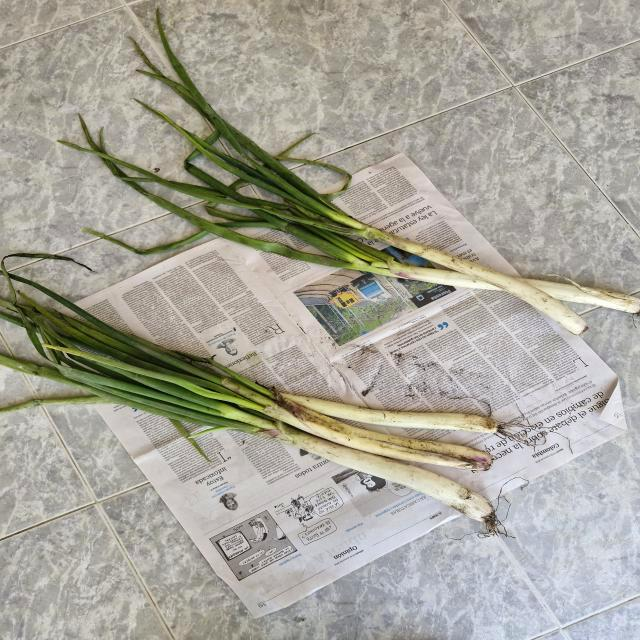green_onion: (0, 270, 537, 542), (123, 83, 640, 362)
